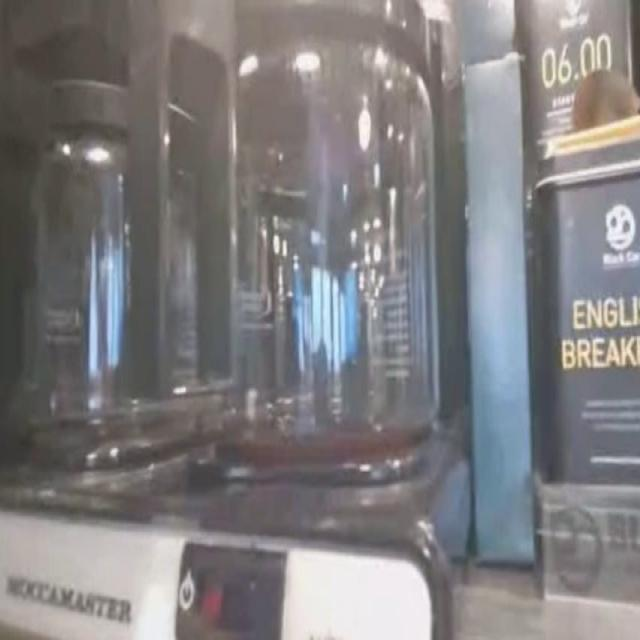nocoffee: (217, 81, 443, 438), (37, 154, 197, 436)
